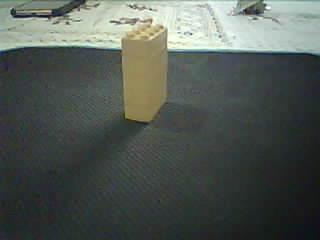lego: (118, 20, 168, 123)
